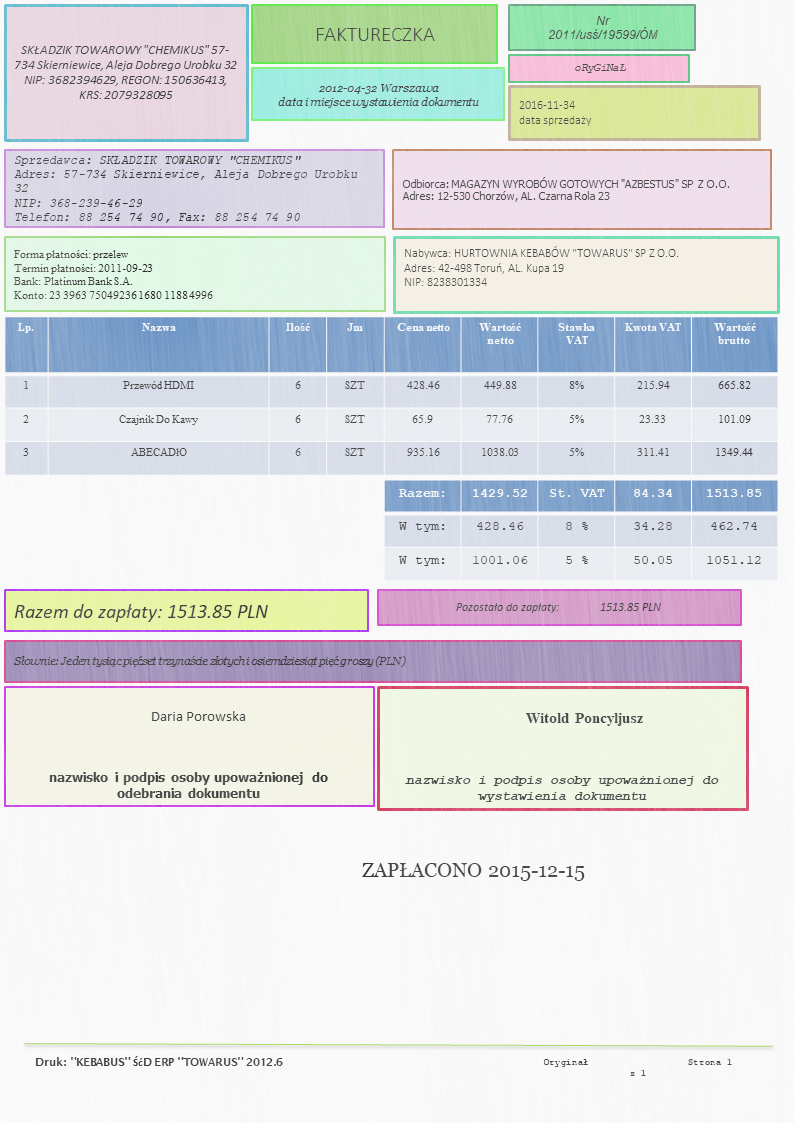Table: (3, 315, 779, 477), (381, 479, 780, 581)
TextBox: (11, 150, 361, 224), (12, 40, 239, 104), (9, 244, 216, 302), (401, 245, 680, 288), (401, 772, 719, 804), (400, 176, 732, 204), (44, 770, 331, 802), (10, 649, 407, 672), (10, 597, 270, 621), (275, 81, 483, 110), (357, 859, 587, 885), (31, 1050, 288, 1071), (541, 1056, 737, 1079), (544, 11, 660, 43), (451, 598, 663, 614), (311, 23, 439, 46), (522, 708, 648, 728), (516, 97, 593, 128), (147, 704, 250, 725), (571, 59, 630, 74)
